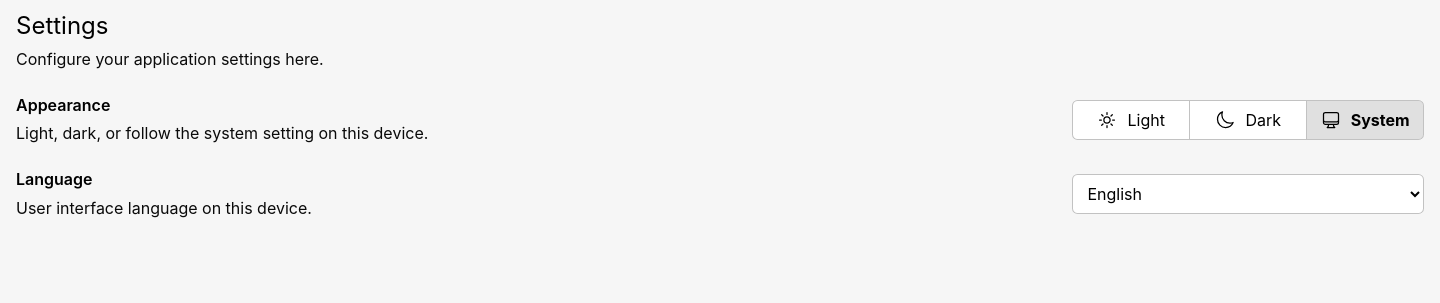
it: SettingsPage › exposes success feedback to assistive tech after a save
The image size is (1440, 303).
Step 1. Click the button "Light" → (1132, 120), box [1073,101,1190,139]
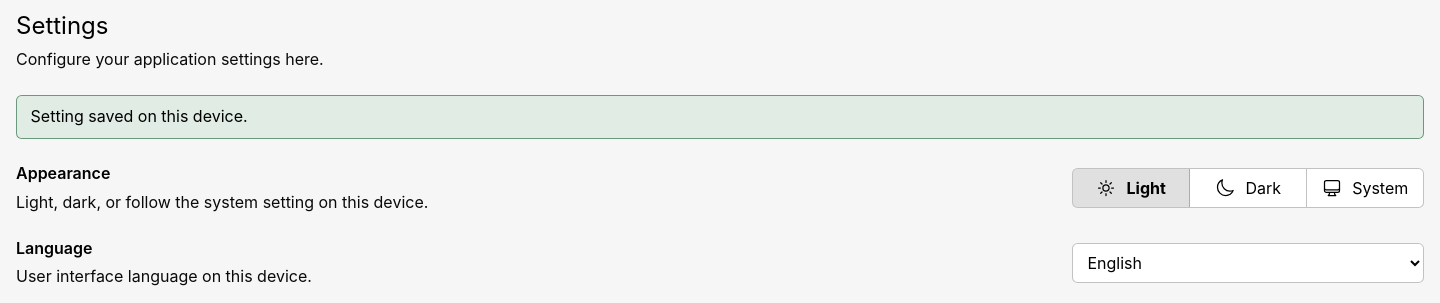
expect the message "Setting saved on this device." is shown: met, box [16,95,1424,139]
